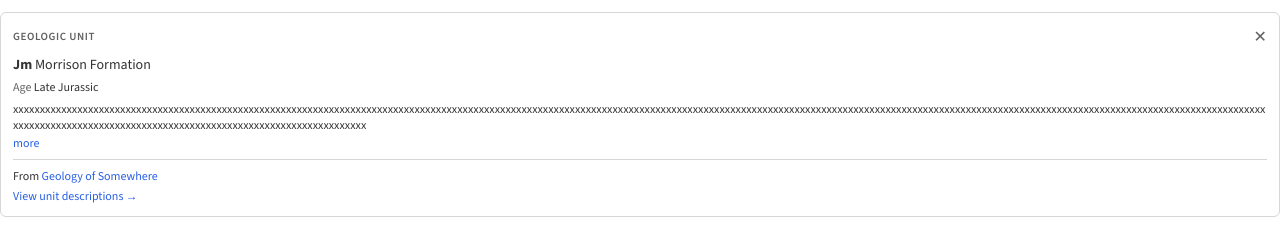
Scenario: UnitCard › shows code, name, age, a clamped description, and the publication links
Expected: the text "Jm Morrison Formation" is shown, [13, 55, 151, 74]
Expected: the text "Age Late Jurassic" is shown, [13, 79, 98, 95]
Click the button "more".
click(26, 143)  # box [13, 135, 40, 151]
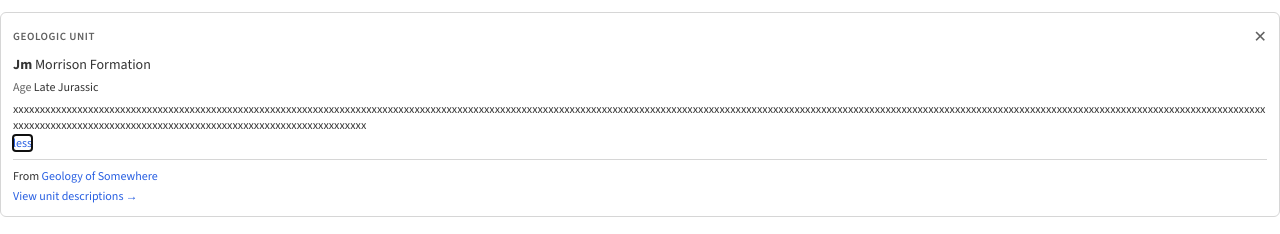
Now the button "less" is shown, box [13, 135, 32, 151]
